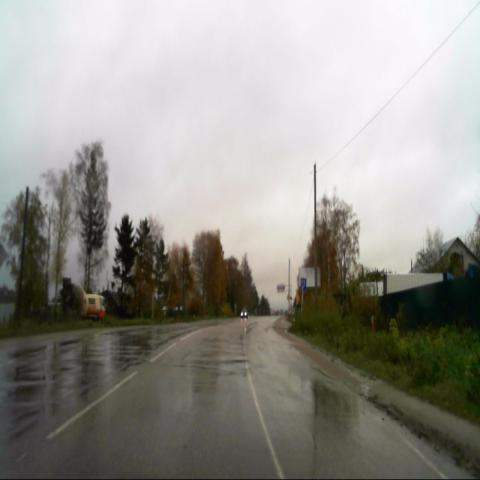5_15_3: (300, 276, 308, 292)
